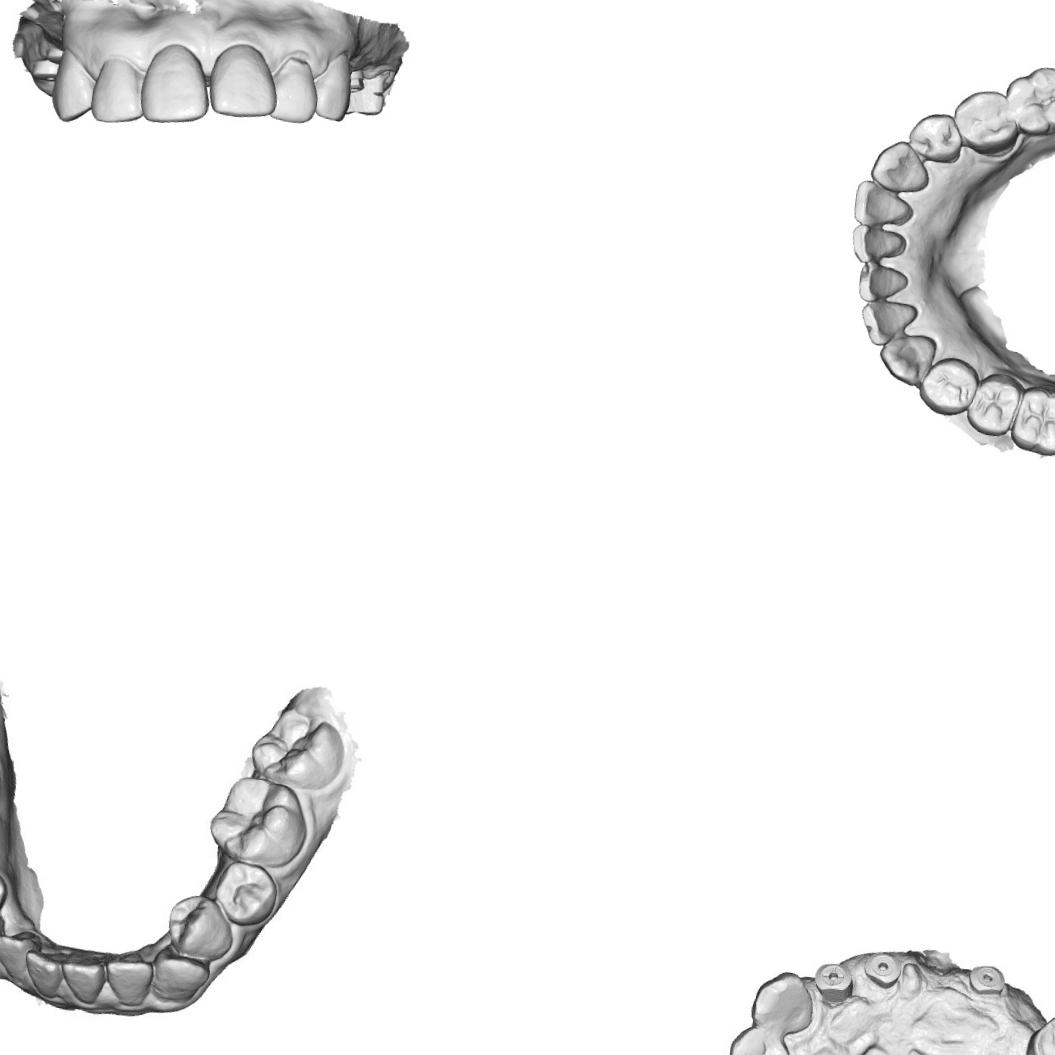canine: (746, 972, 818, 1036), (48, 43, 98, 125), (306, 45, 356, 127), (868, 136, 934, 196), (872, 330, 939, 389), (154, 948, 213, 1006)
implant: (964, 958, 1010, 1000), (862, 948, 901, 988), (30, 50, 64, 92), (344, 62, 372, 94)
implant_plus: (810, 958, 854, 1000)
incisor: (133, 36, 216, 130), (202, 37, 282, 125), (88, 52, 152, 129), (264, 48, 324, 127), (848, 178, 917, 232), (858, 296, 919, 350), (848, 220, 910, 268), (61, 952, 114, 1008), (0, 925, 44, 988), (105, 956, 158, 1008), (853, 260, 910, 304), (24, 946, 74, 996)
molar: (245, 701, 351, 790), (208, 776, 314, 864), (1000, 60, 1055, 142), (1007, 383, 1055, 457)
premolar: (946, 83, 1024, 159), (166, 892, 240, 960), (960, 368, 1024, 439), (915, 352, 980, 418), (212, 859, 278, 921), (904, 109, 966, 164), (725, 1027, 792, 1055), (1025, 1008, 1055, 1055)
